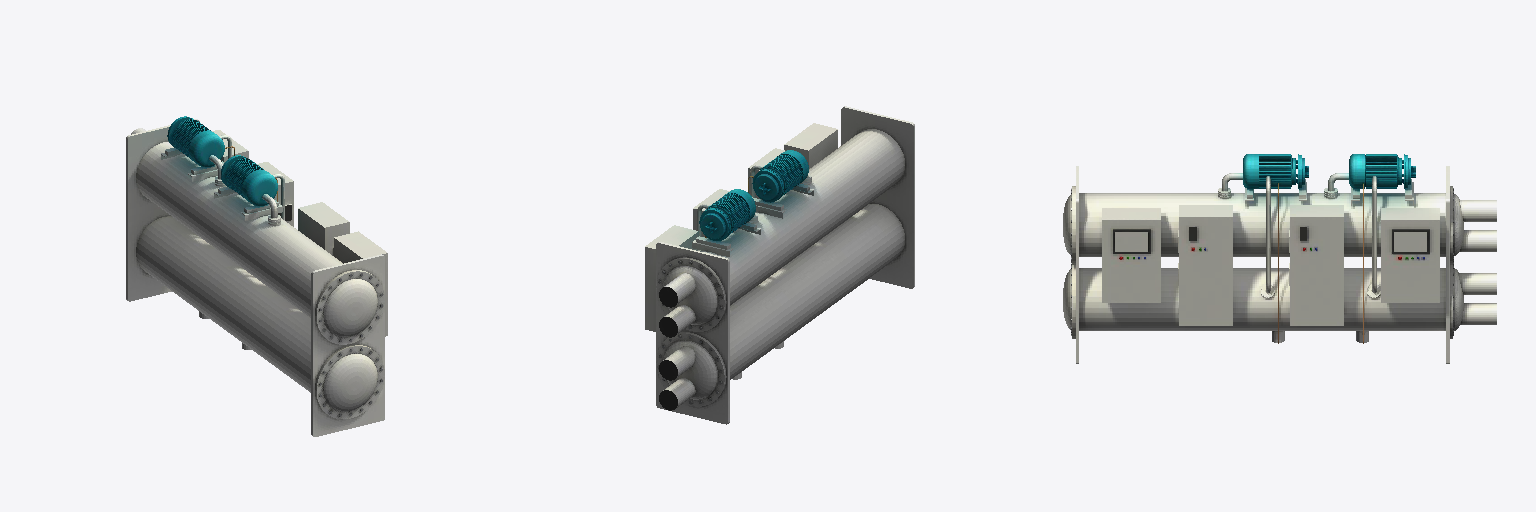
3 renders of one model, left to right at view 1: azimuth 30°, elevation 25°; view 2: azimuth 150°, elevation 25°; view 3: azimuth 270°, elevation 25°, orthographic.
Visible parts, largest first — view 1: Box235; view 2: Box235; view 3: Box235.
Part boxes in pixels (x1,y1,x2,y2): Box235: (126, 116, 387, 436); Box235: (645, 106, 914, 424); Box235: (1063, 154, 1496, 363).
Size of the model in its own units: 71.81 by 146 by 299.
Materials: 1 (1 with a texture image).